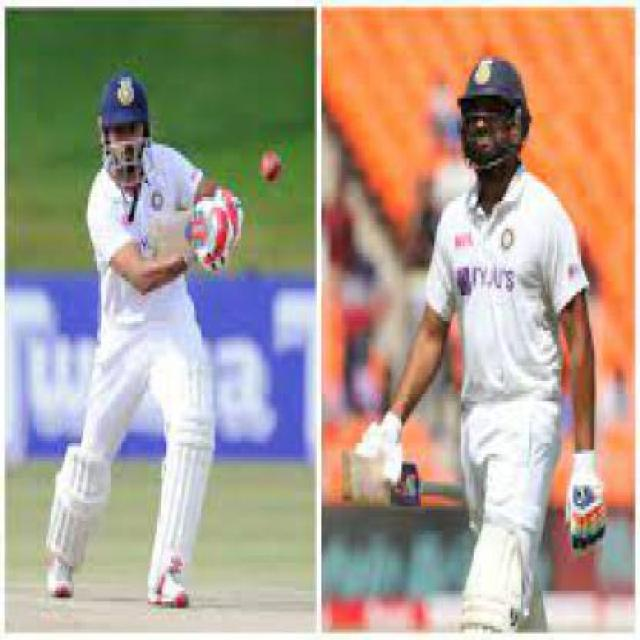ball: (234, 134, 321, 204)
